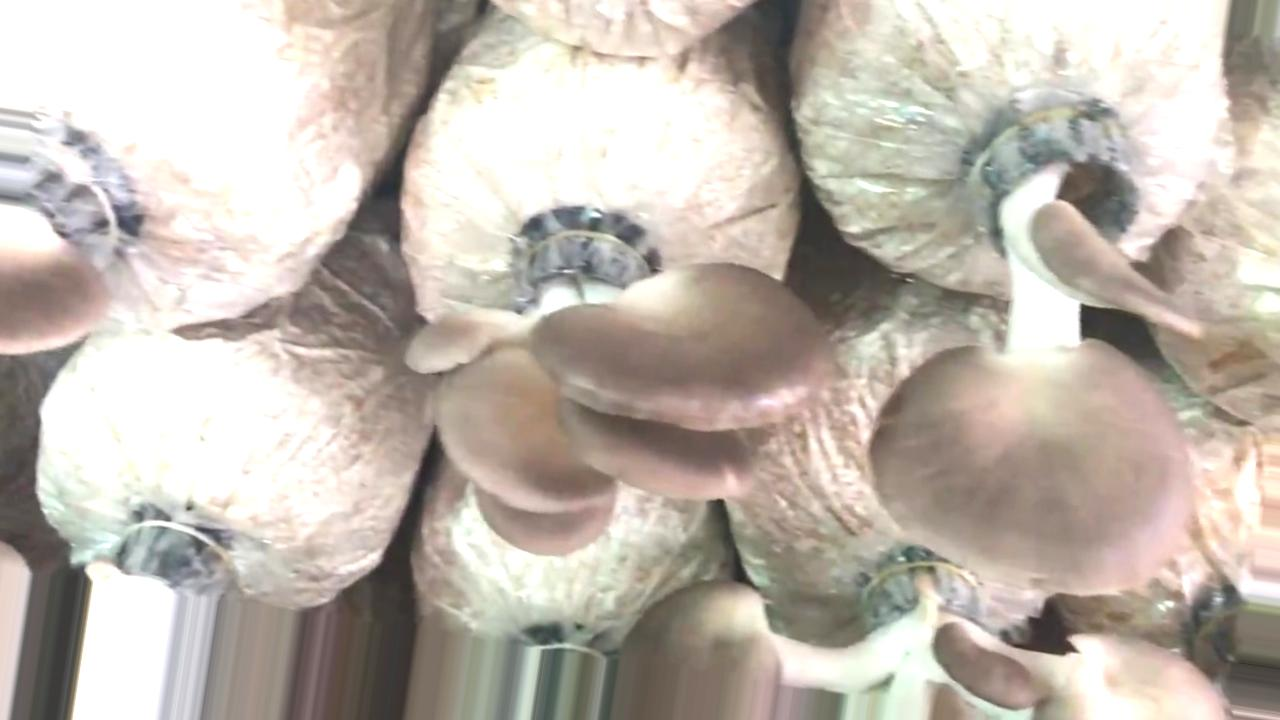nam: (866, 100, 1207, 598), (403, 198, 823, 559), (611, 545, 1224, 720), (1, 156, 121, 353)
